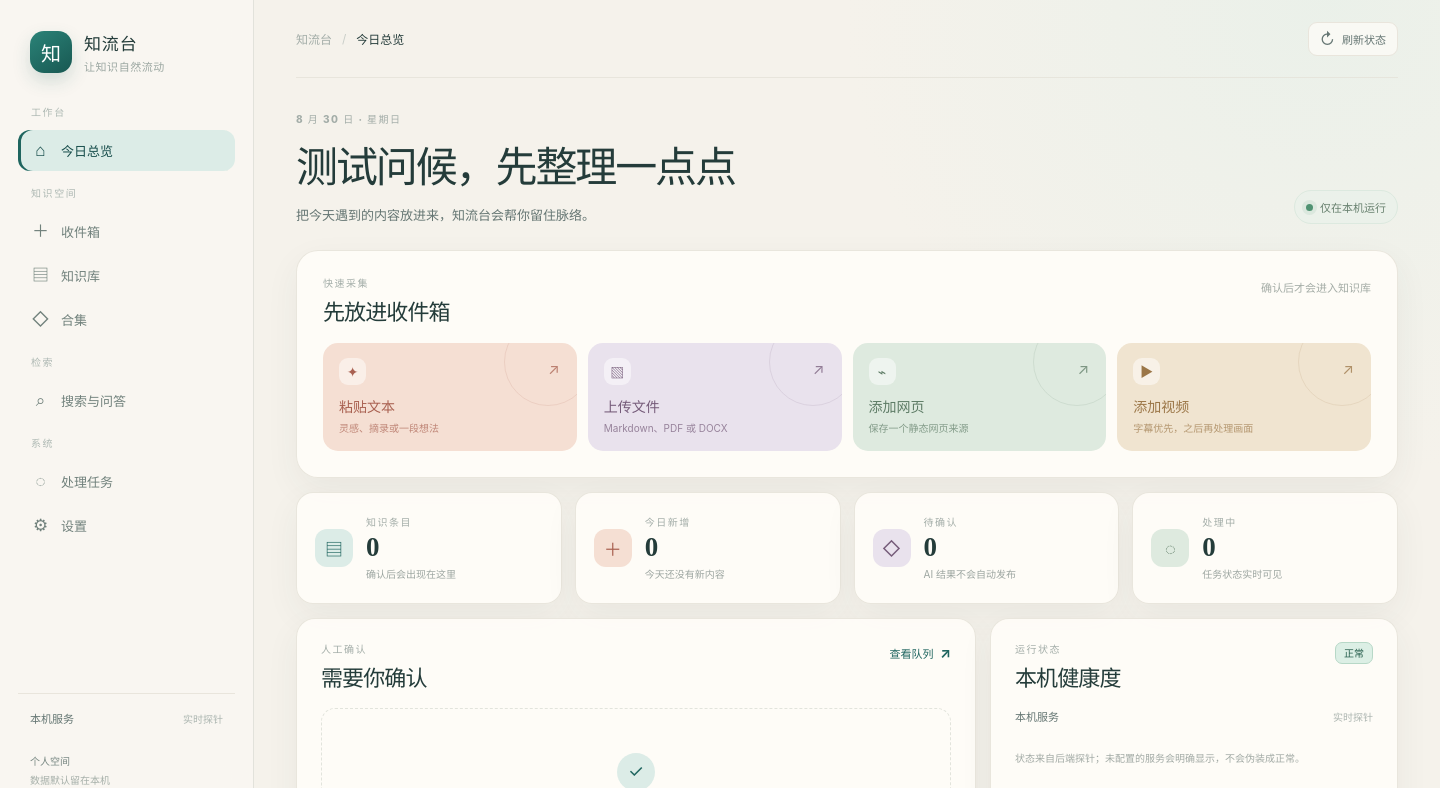
Test: 批次 A 统一采集 › 首页 粘贴文本 入口导航并预选 文本 模式
This screenshot has width=1440, height=788.
expect the heading "测试问候，先整理一点点" is shown: met, box x1=296 y1=133 x2=735 y2=194
Step 1. Click the button "✦ 粘贴文本 灵感、摘录或一段想法 ↗" → [450, 397], box x1=323 y1=343 x2=577 y2=451
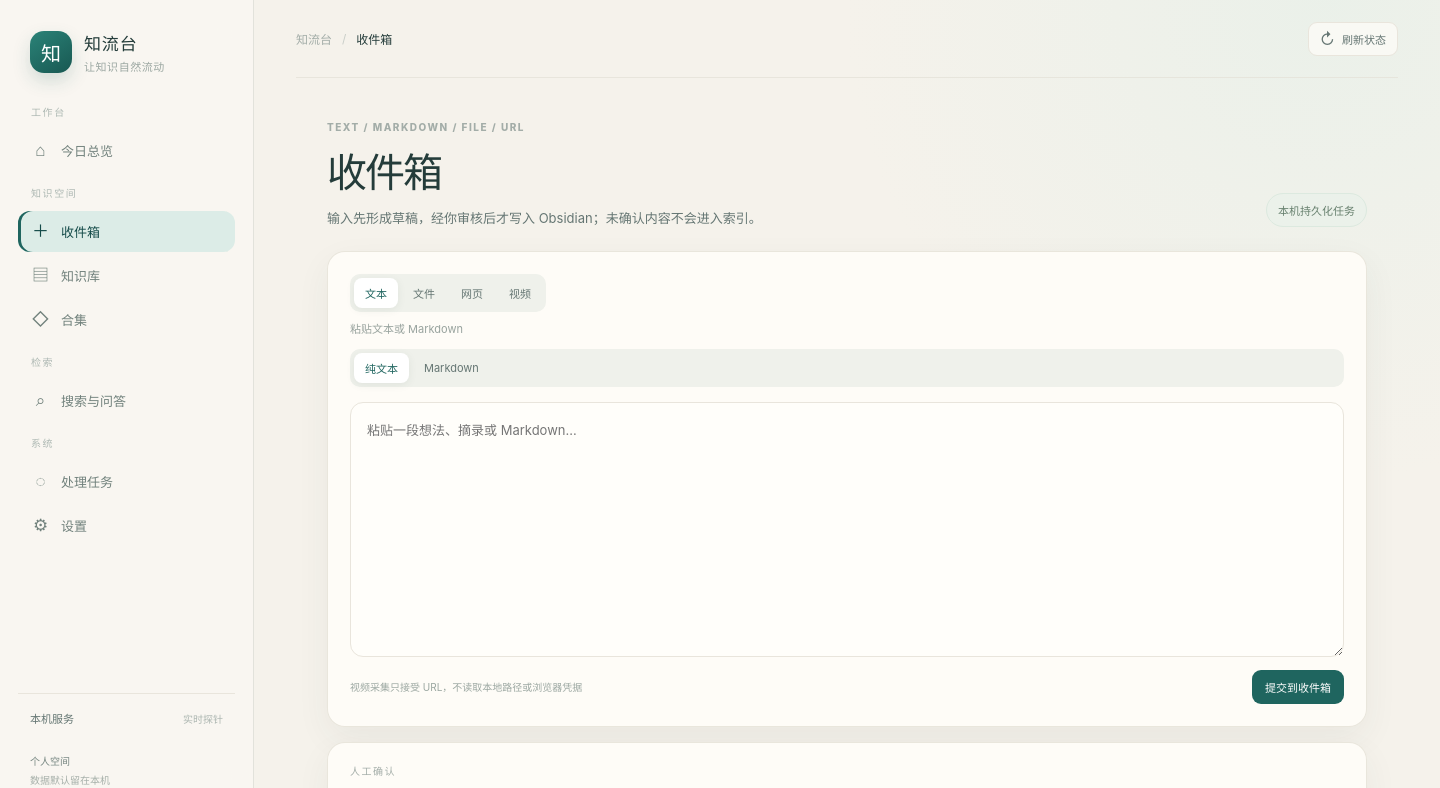
expect the heading "收件箱" is shown: met, box x1=327 y1=151 x2=441 y2=196
